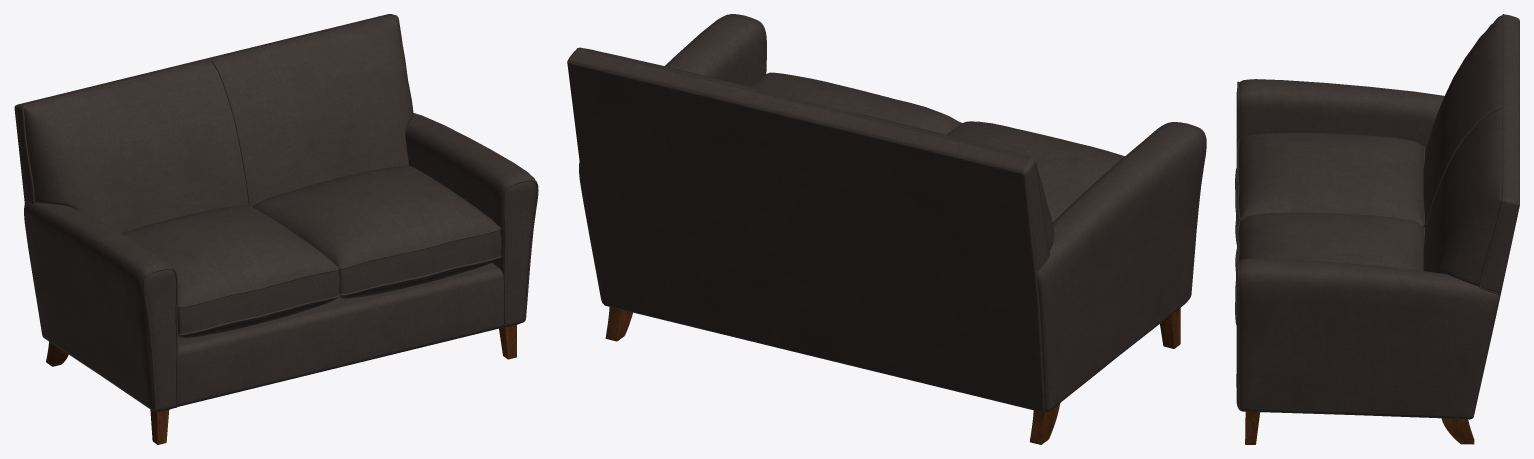
The model's file is office_chair_B075X4VW74.glb.
3 renders of one model, left to right at view 1: azimuth 30°, elevation 25°; view 2: azimuth 150°, elevation 25°; view 3: azimuth 270°, elevation 25°, orthographic. The views are drawn at different scales.
Parts seen in each view (by area): view 1: RootNode; view 2: RootNode; view 3: RootNode.
Boxes of the visible parts, left/top/right/bottom form: RootNode: left=14, top=14, right=538, bottom=444; RootNode: left=567, top=14, right=1206, bottom=444; RootNode: left=1235, top=14, right=1519, bottom=444.
Size of the model in its own units: 1.42 by 0.8461 by 0.8707.
Materials: 1 (1 with a texture image).
